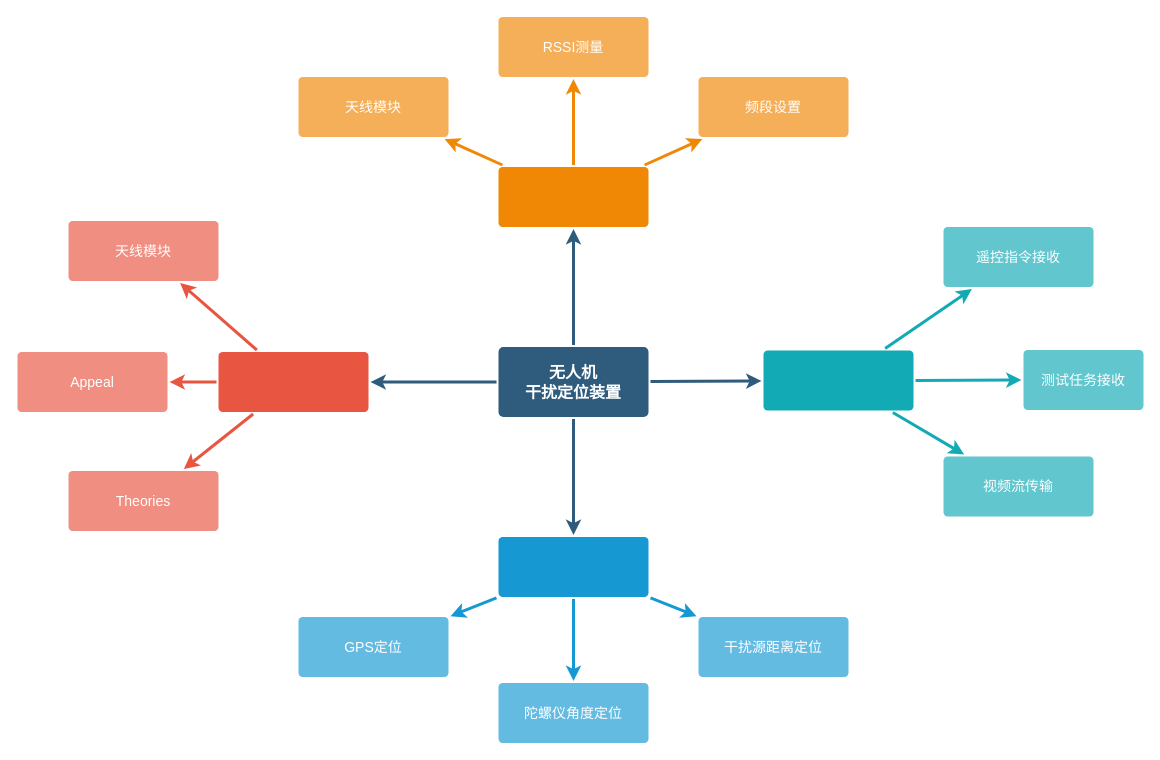
Some shapes in this 1160 by 760 pixel diagram are drawn without their labels. The box of each missing label's shape, as (x1, y1, x2, y2) in pixels:
传输模块: (763, 350, 913, 410)
地理模块: (498, 536, 648, 596)
扫频模块: (498, 166, 648, 226)
摄像模块: (218, 352, 368, 412)
